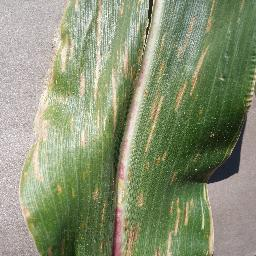Gray_Leaf_Spot: (56, 0, 112, 120), (15, 109, 44, 188), (112, 0, 132, 90), (38, 42, 53, 127), (201, 187, 218, 256), (130, 0, 155, 45), (144, 83, 167, 127), (175, 13, 191, 59), (195, 34, 213, 70), (153, 31, 165, 84), (95, 209, 108, 256), (15, 201, 36, 228), (185, 51, 197, 97), (124, 215, 137, 256), (109, 86, 120, 130), (143, 124, 156, 160), (245, 70, 256, 111), (150, 239, 174, 256), (184, 195, 195, 232), (92, 181, 108, 205), (164, 163, 180, 187), (168, 201, 186, 220), (131, 46, 141, 80), (173, 74, 182, 111), (77, 214, 85, 255), (158, 141, 171, 164), (53, 179, 67, 199), (204, 0, 213, 28), (58, 238, 71, 256), (235, 0, 245, 23), (167, 222, 184, 234), (213, 165, 225, 180), (55, 125, 64, 145), (68, 186, 82, 198), (132, 193, 143, 207), (203, 131, 217, 142), (191, 147, 200, 163), (139, 161, 156, 169), (79, 130, 84, 148), (198, 102, 203, 119), (45, 242, 51, 256), (84, 164, 91, 176)
